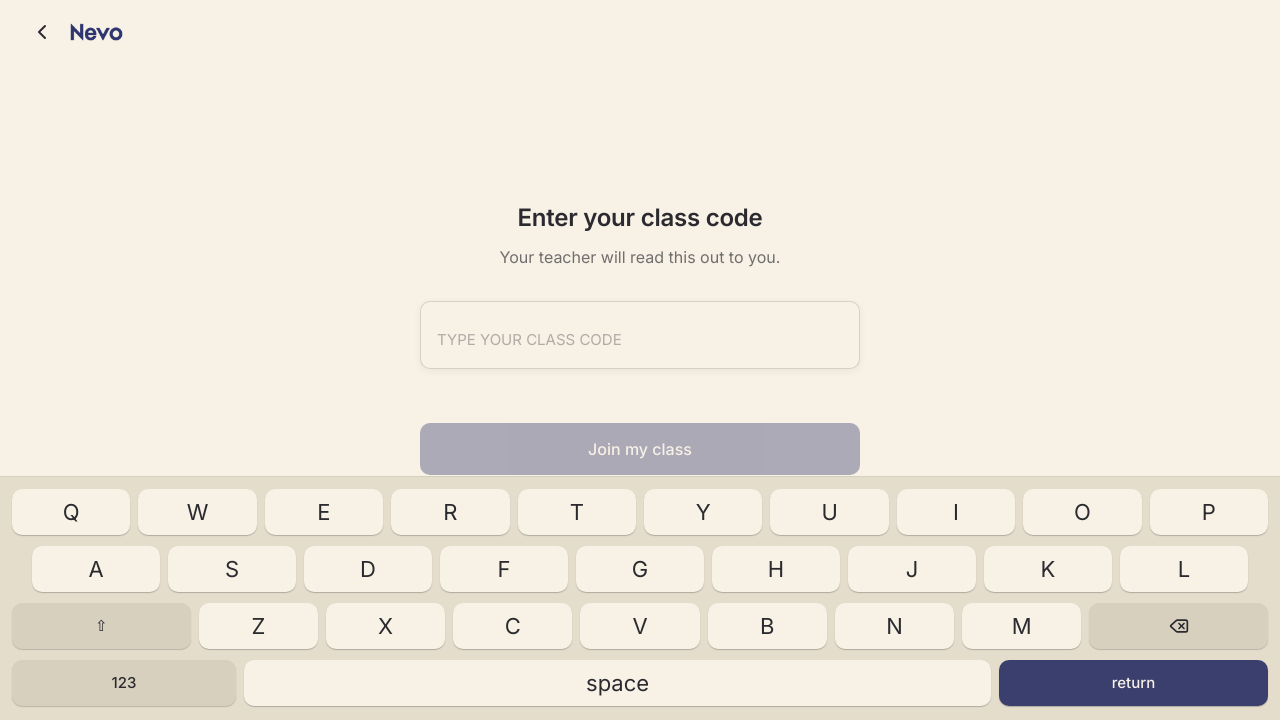
TeacherJoin › does not blame a child for a check we could not run
Type "MAP4KZ" into the field labelled "class code" at (640, 335), box [437,302,843,368]
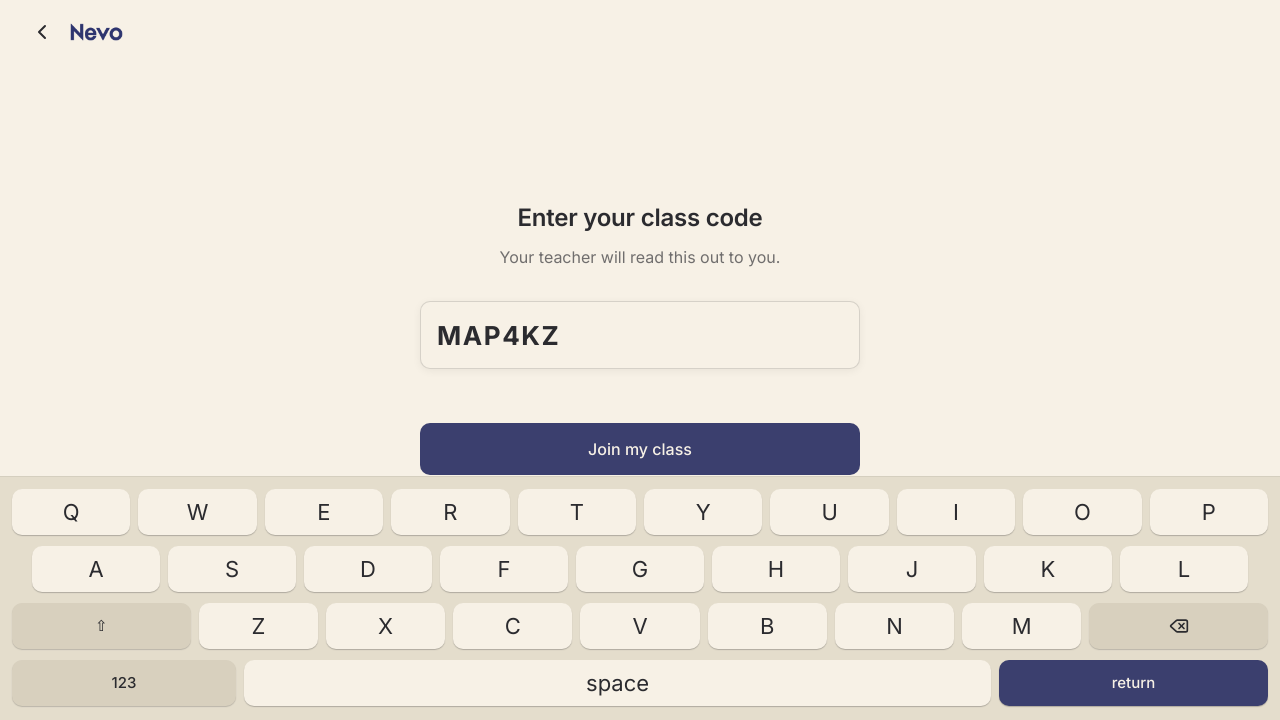
Click the button "Join my class" at (640, 449), box [420,423,860,475]
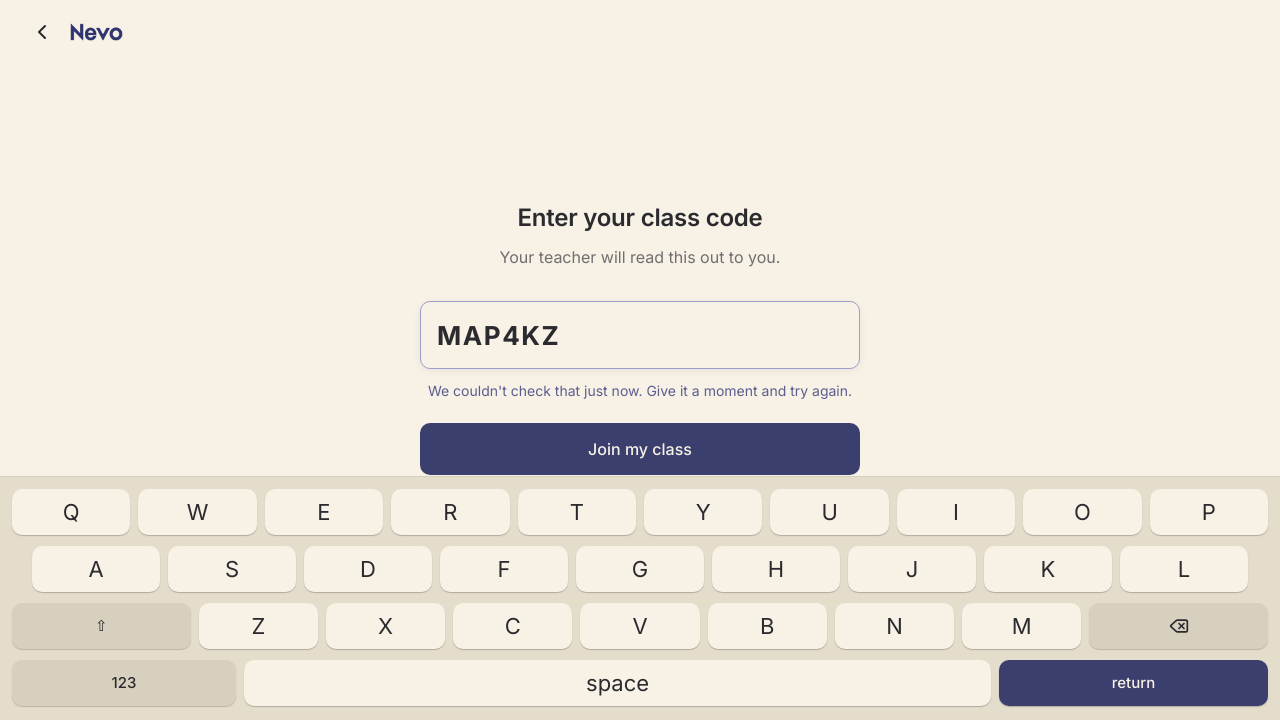
Expected: the text "couldn.t check that just now" is shown, [428,382,852,399]
